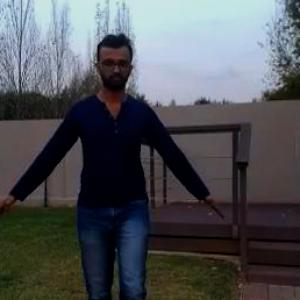land: (12, 34, 212, 299)
